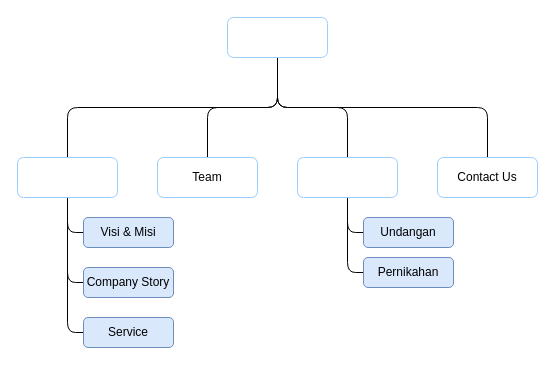
Some shapes in this 555 by 365 pixel diagram are drawn without their labels. Each missing label, with the box of its shape:
About Us: (16, 156, 118, 198)
Gallery: (296, 156, 398, 198)
HomePage: (226, 16, 328, 58)
